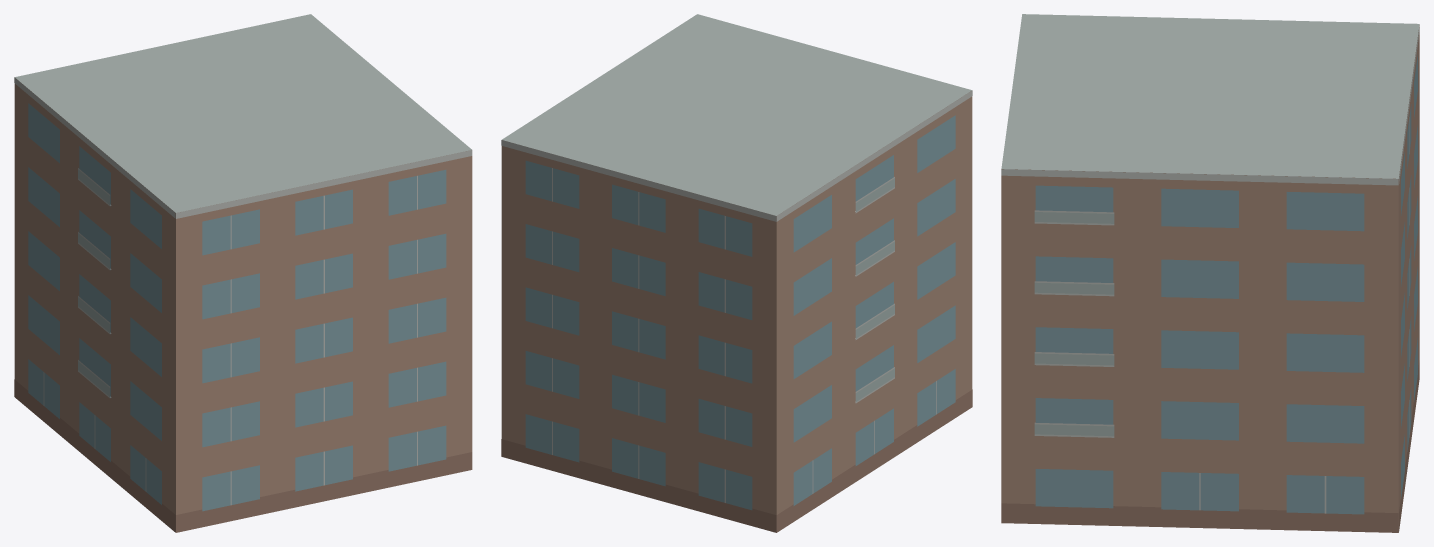
File: survey-upis-32679901.glb
The picture shows the model from 3 angles, left to right: view 1: azimuth 30°, elevation 25°; view 2: azimuth 150°, elevation 25°; view 3: azimuth 270°, elevation 25°; orthographic projection. The views are drawn at different scales.
Parts seen in each view (by area): view 1: survey-upis-32679901.tmp; view 2: survey-upis-32679901.tmp; view 3: survey-upis-32679901.tmp.
Boxes of the visible parts, bbox=[...] form: survey-upis-32679901.tmp: bbox=[14, 14, 472, 532]; survey-upis-32679901.tmp: bbox=[501, 14, 972, 532]; survey-upis-32679901.tmp: bbox=[1001, 14, 1419, 532].
Bounding box in the file's own units: 13.04 × 13.05 × 13.98.
